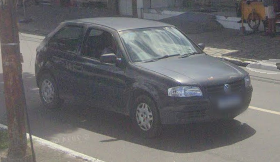car: (34, 16, 255, 135)
